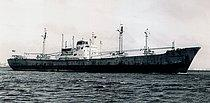Ship: (6, 17, 205, 77)
